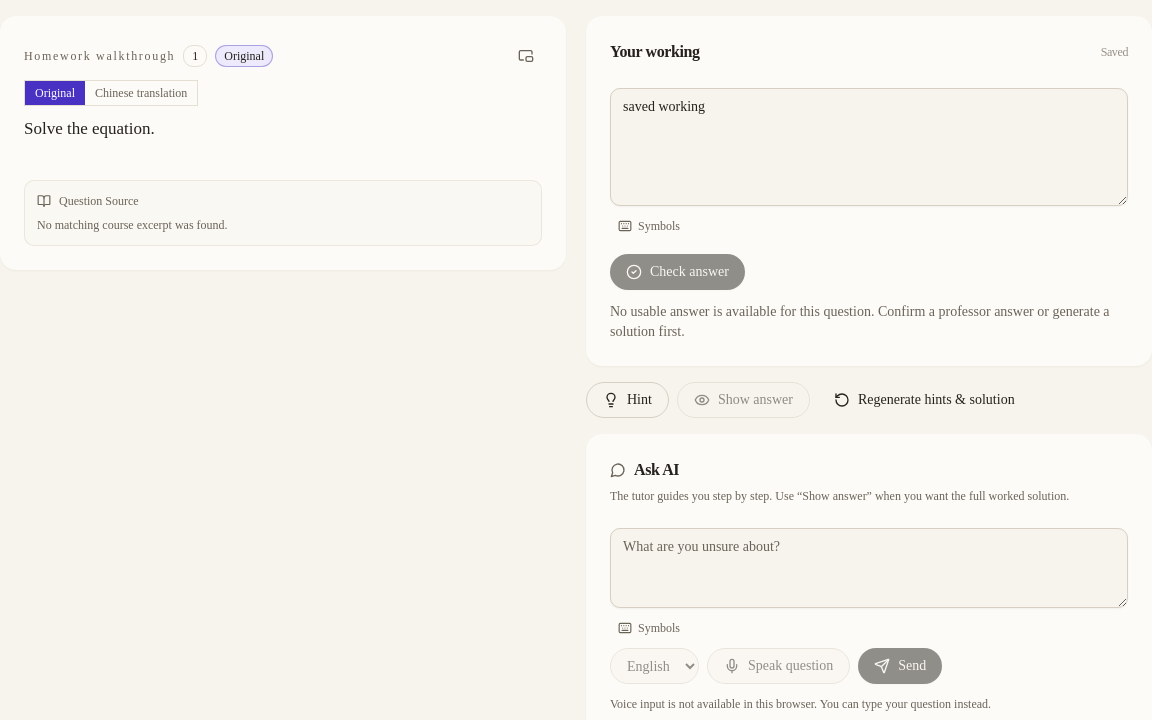
Test case: homework speech input › preserves typing when speech recognition is unavailable
Expected: the text "Voice input is not available" is shown, [610,697,991,711]
Expected: the button "Speak question" is disabled, [707,648,850,684]
Type "Typed instead" into the text box named "Ask about this question". click: (869, 568)
box: [610,528,1128,608]
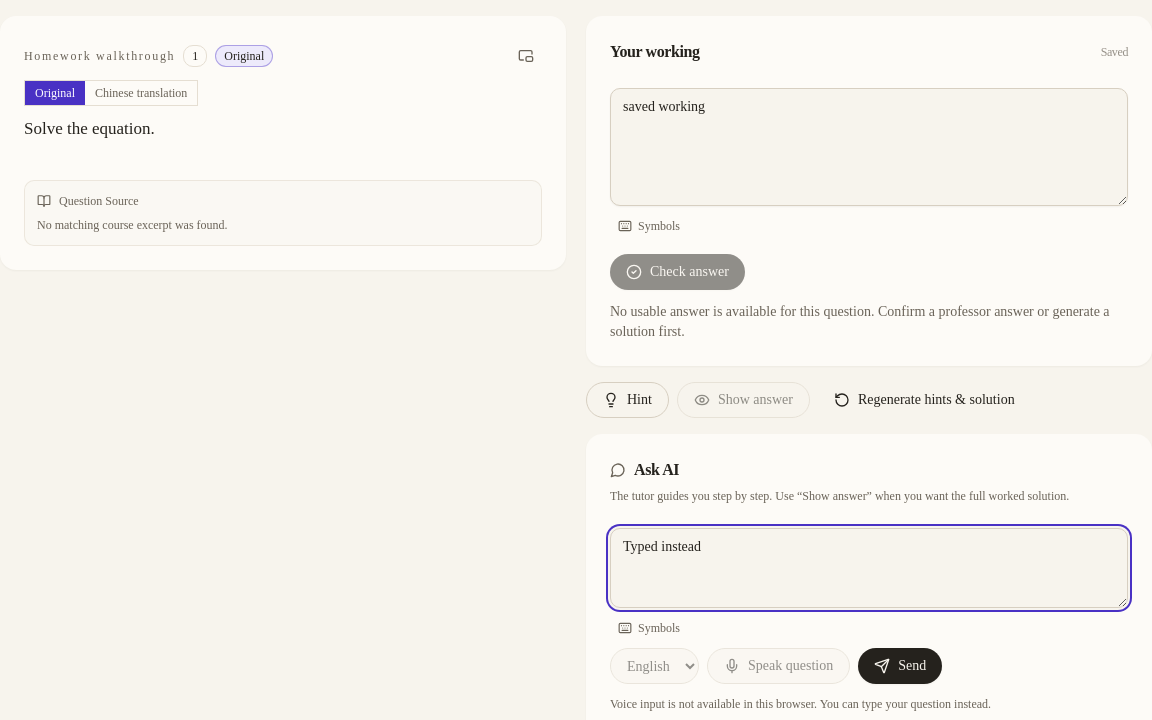
Now the button "Send" is enabled, box [858,648,942,684]
